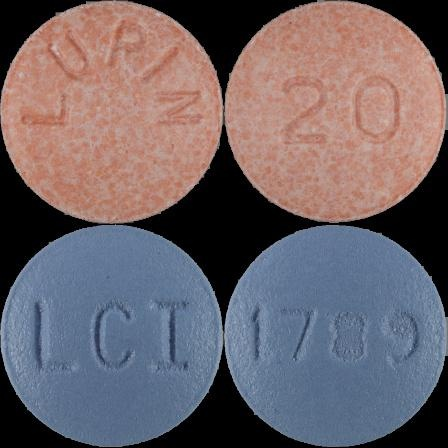61786-806: (0, 0, 224, 224)
